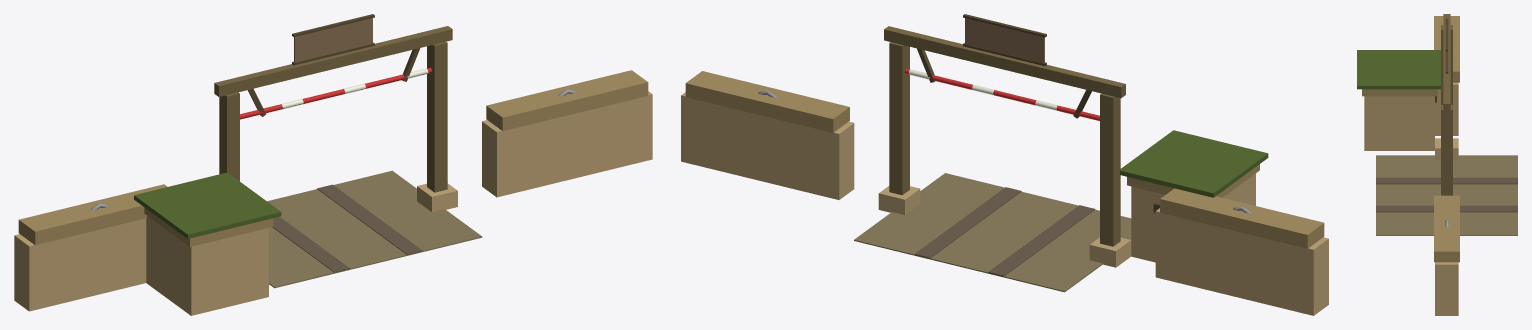
The model's file is firebase-gate.glb.
3 renders of one model, left to right at view 1: azimuth 30°, elevation 25°; view 2: azimuth 150°, elevation 25°; view 3: azimuth 270°, elevation 25°, orthographic. The views are drawn at different scales.
Visible parts, largest first — view 1: Mesh_DirtRoad, Mesh_RightSandbagWall, Mesh_LeftSandbagWall, Mesh_GuardPost, Mesh_GuardPostRoof, Mesh_RightSandbagTop, Mesh_LeftSandbagTop, Mesh_Crossbeam, Mesh_RightPost, Mesh_SignBoard, Mesh_LeftPost, Mesh_TireTrackR (+4 smaller); view 2: Mesh_DirtRoad, Mesh_LeftSandbagWall, Mesh_RightSandbagWall, Mesh_GuardPostRoof, Mesh_RightSandbagTop, Mesh_LeftSandbagTop, Mesh_Crossbeam, Mesh_LeftPost, Mesh_RightPost, Mesh_GuardPost, Mesh_SignBoard, Mesh_TireTrackR (+5 smaller); view 3: Mesh_DirtRoad, Mesh_GuardPost, Mesh_GuardPostRoof, Mesh_RightSandbagTop, Mesh_RightSandbagWall, Mesh_RightPost, Mesh_TireTrackL, Mesh_TireTrackR, Mesh_LeftSandbagTop, Mesh_Crossbeam, Mesh_GuardPostTop, Mesh_LeftSandbagWall (+3 smaller).
Boxes of the visible parts, bbox=[...] form: Mesh_DirtRoad: bbox=[267, 170, 482, 288]; Mesh_RightSandbagWall: bbox=[482, 91, 652, 197]; Mesh_LeftSandbagWall: bbox=[14, 218, 146, 311]; Mesh_GuardPost: bbox=[146, 216, 268, 315]; Mesh_GuardPostRoof: bbox=[134, 173, 281, 238]; Mesh_RightSandbagTop: bbox=[486, 70, 648, 130]; Mesh_LeftSandbagTop: bbox=[18, 184, 167, 245]; Mesh_Crossbeam: bbox=[214, 26, 452, 96]; Mesh_RightPost: bbox=[427, 41, 447, 192]; Mesh_SignBoard: bbox=[294, 18, 372, 62]; Mesh_LeftPost: bbox=[219, 92, 239, 181]; Mesh_TireTrackR: bbox=[317, 184, 422, 254]; Mesh_DirtRoad: bbox=[854, 173, 1131, 292]; Mesh_LeftSandbagWall: bbox=[1155, 208, 1328, 315]; Mesh_RightSandbagWall: bbox=[681, 92, 854, 199]; Mesh_GuardPostRoof: bbox=[1120, 130, 1268, 197]; Mesh_RightSandbagTop: bbox=[685, 71, 849, 132]; Mesh_LeftSandbagTop: bbox=[1160, 188, 1324, 248]; Mesh_Crossbeam: bbox=[884, 26, 1125, 98]; Mesh_LeftPost: bbox=[1100, 93, 1120, 246]; Mesh_RightPost: bbox=[889, 42, 909, 195]; Mesh_GuardPost: bbox=[1131, 173, 1255, 262]; Mesh_SignBoard: bbox=[965, 18, 1044, 63]; Mesh_TireTrackR: bbox=[914, 187, 1021, 258]; Mesh_DirtRoad: bbox=[1376, 155, 1517, 235]; Mesh_GuardPost: bbox=[1364, 96, 1434, 150]; Mesh_GuardPostRoof: bbox=[1357, 50, 1440, 89]; Mesh_RightSandbagTop: bbox=[1434, 195, 1459, 262]; Mesh_RightSandbagWall: bbox=[1435, 262, 1458, 315]; Mesh_RightPost: bbox=[1441, 105, 1452, 195]; Mesh_TireTrackL: bbox=[1376, 177, 1517, 184]; Mesh_TireTrackR: bbox=[1376, 205, 1517, 212]; Mesh_LeftSandbagTop: bbox=[1434, 16, 1459, 82]; Mesh_Crossbeam: bbox=[1443, 14, 1450, 112]; Mesh_GuardPostTop: bbox=[1362, 89, 1437, 96]; Mesh_LeftSandbagWall: bbox=[1435, 82, 1458, 135].
Bounding box in the file's own units: 12 × 3.78 × 3.4.
